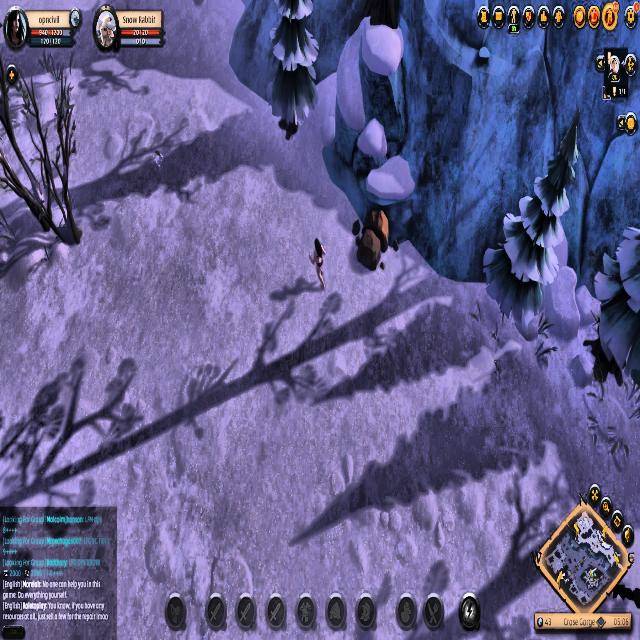limestone: (349, 205, 397, 277)
